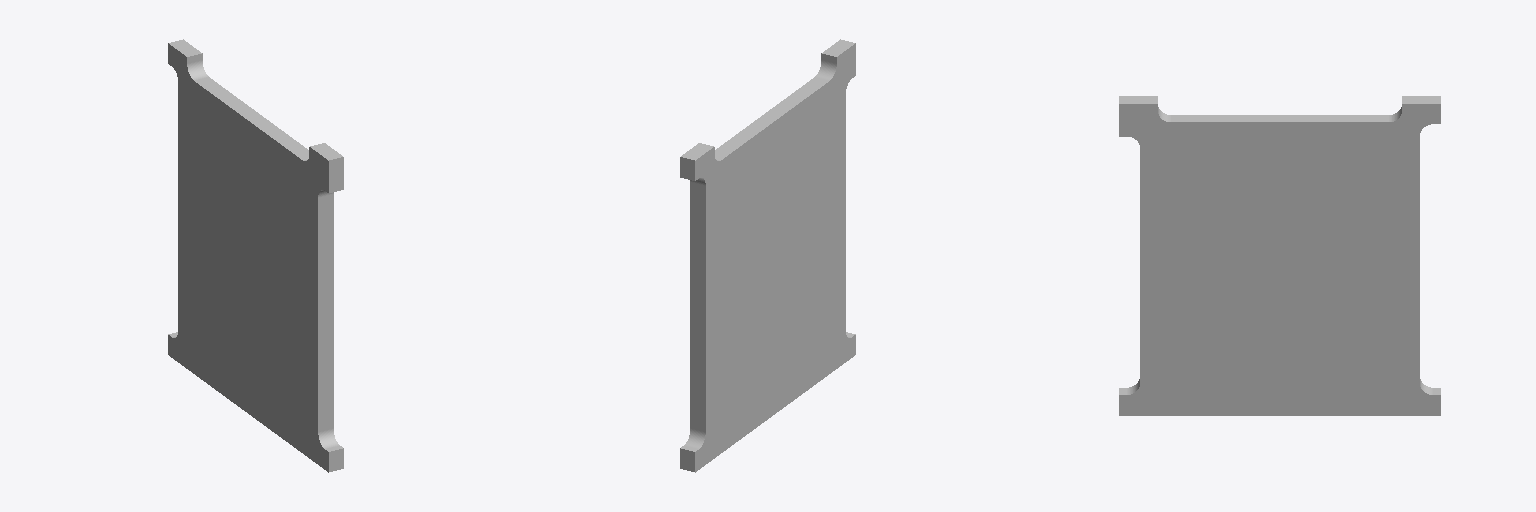
Rendered from Optical_shell_locked.obj.
3 renders of one model, left to right at view 1: azimuth 30°, elevation 25°; view 2: azimuth 150°, elevation 25°; view 3: azimuth 270°, elevation 25°, orthographic.
Parts seen in each view (by area): view 1: shell_locked; view 2: shell_locked; view 3: shell_locked.
Part boxes in pixels (bbox=[...]): shell_locked: bbox=[168, 39, 343, 472]; shell_locked: bbox=[680, 39, 855, 472]; shell_locked: bbox=[1119, 96, 1440, 415].
Bounding box in the file's own units: 0.0027 × 0.0532 × 0.0496.